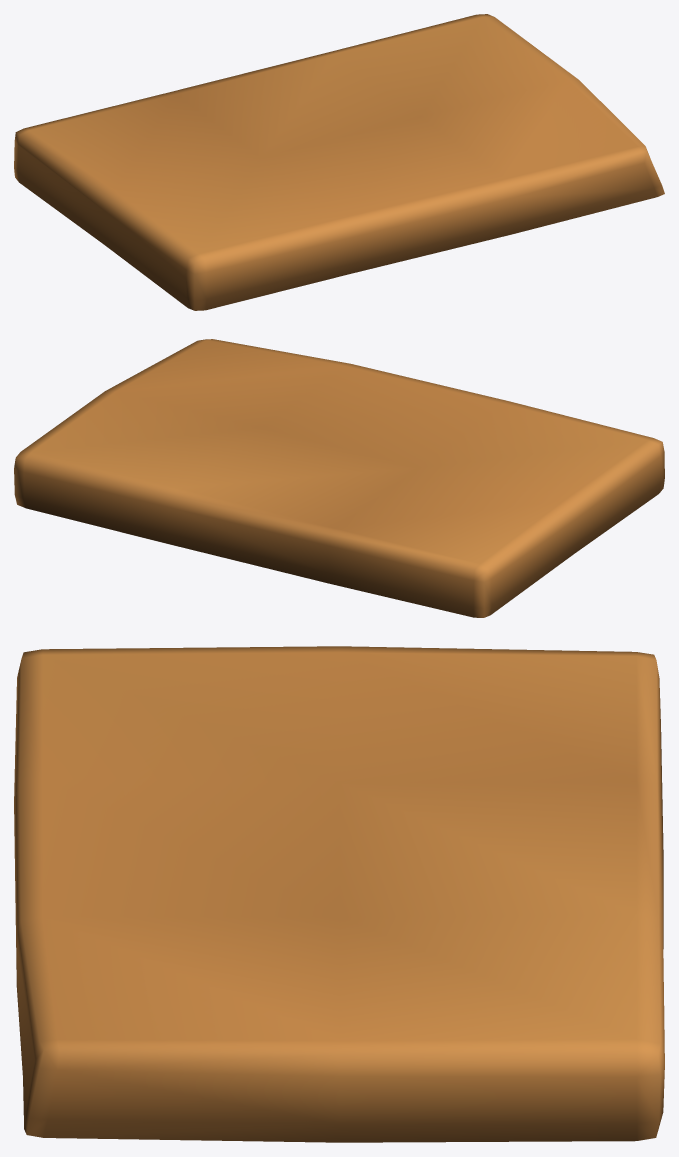
Rendered from slab_b.glb.
3 renders of one model, top to bottom at view 1: azimuth 30°, elevation 25°; view 2: azimuth 150°, elevation 25°; view 3: azimuth 270°, elevation 25°, orthographic. The views are drawn at different scales.
Parts seen in each view (by area): view 1: slab_b; view 2: slab_b; view 3: slab_b.
Boxes of the visible parts, left/top/right/bottom form: slab_b: left=14, top=14, right=664, bottom=310; slab_b: left=14, top=339, right=664, bottom=617; slab_b: left=14, top=646, right=664, bottom=1142.
Size of the model in its own units: 1.51 by 0.1602 by 1.01.
